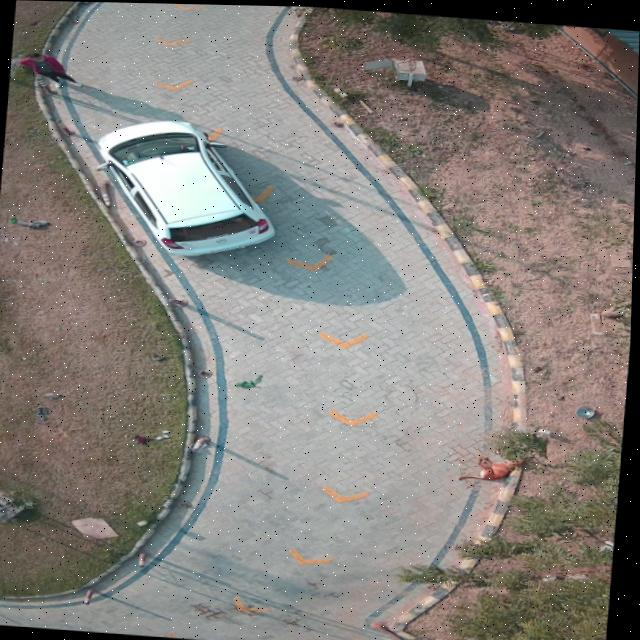car: (99, 119, 276, 254)
